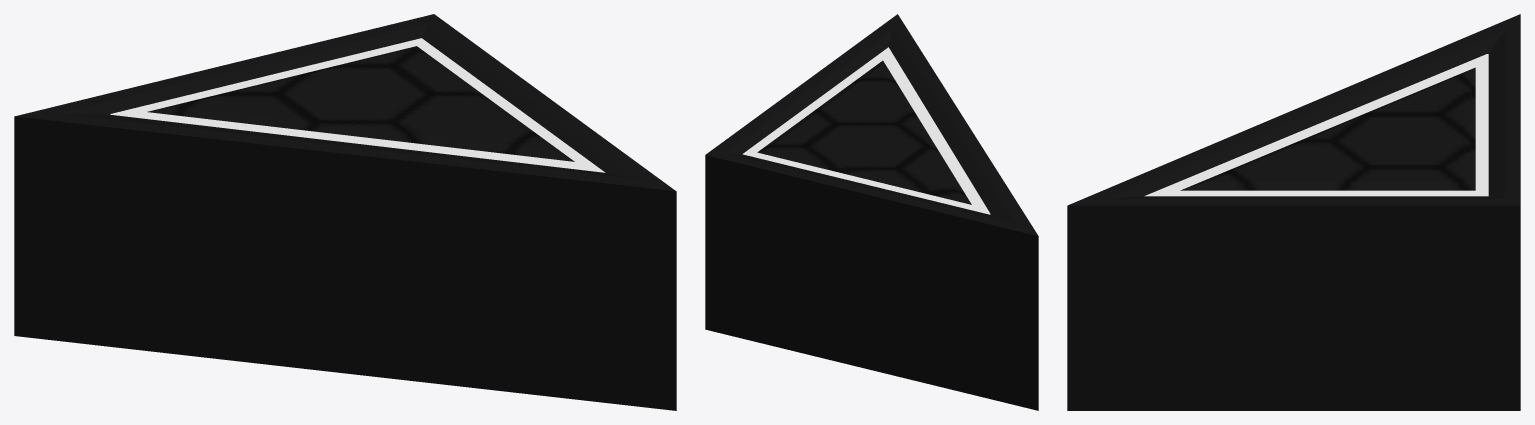
File: Tile 2E2.fbx
3 views of the same model, side by side, from view 1: azimuth 30°, elevation 25°; view 2: azimuth 150°, elevation 25°; view 3: azimuth 270°, elevation 25° (orthographic). The views are drawn at different scales.
Visible parts, largest first — view 1: pCube169; view 2: pCube169; view 3: pCube169.
Boxes of the visible parts, x1,y1,x2,y2 form: pCube169: (14, 14, 676, 410); pCube169: (705, 14, 1038, 410); pCube169: (1067, 14, 1520, 410).
Bounding box in the file's own units: 2 × 1 × 2.
